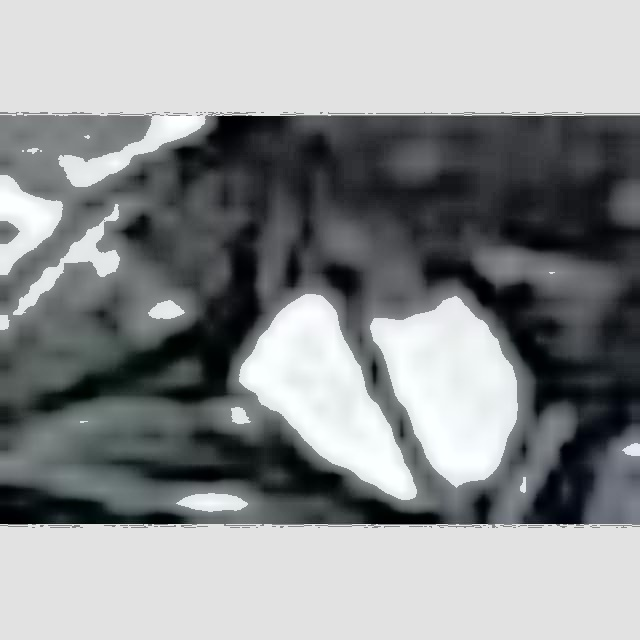pakai: (204, 239, 531, 497)
